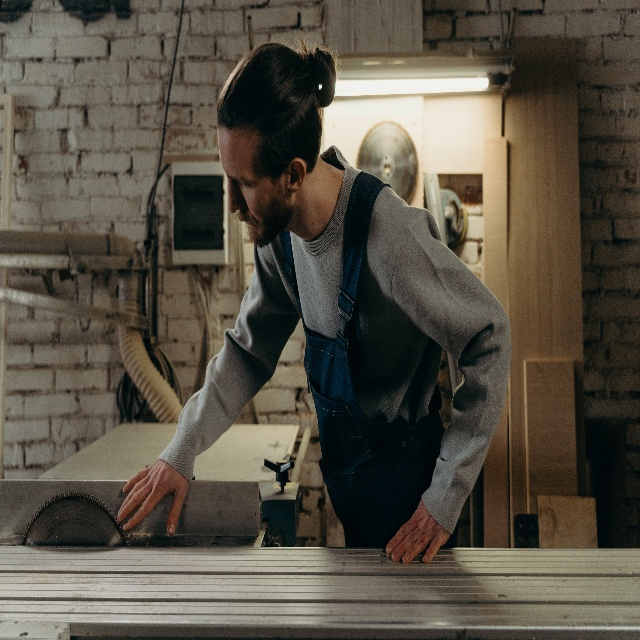Sin_guantes: (115, 459, 189, 535), (385, 499, 451, 564)
